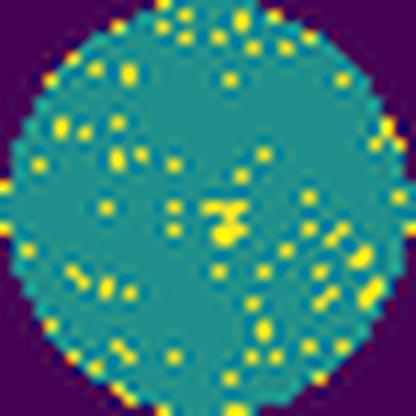Center: (198, 197, 256, 254)
